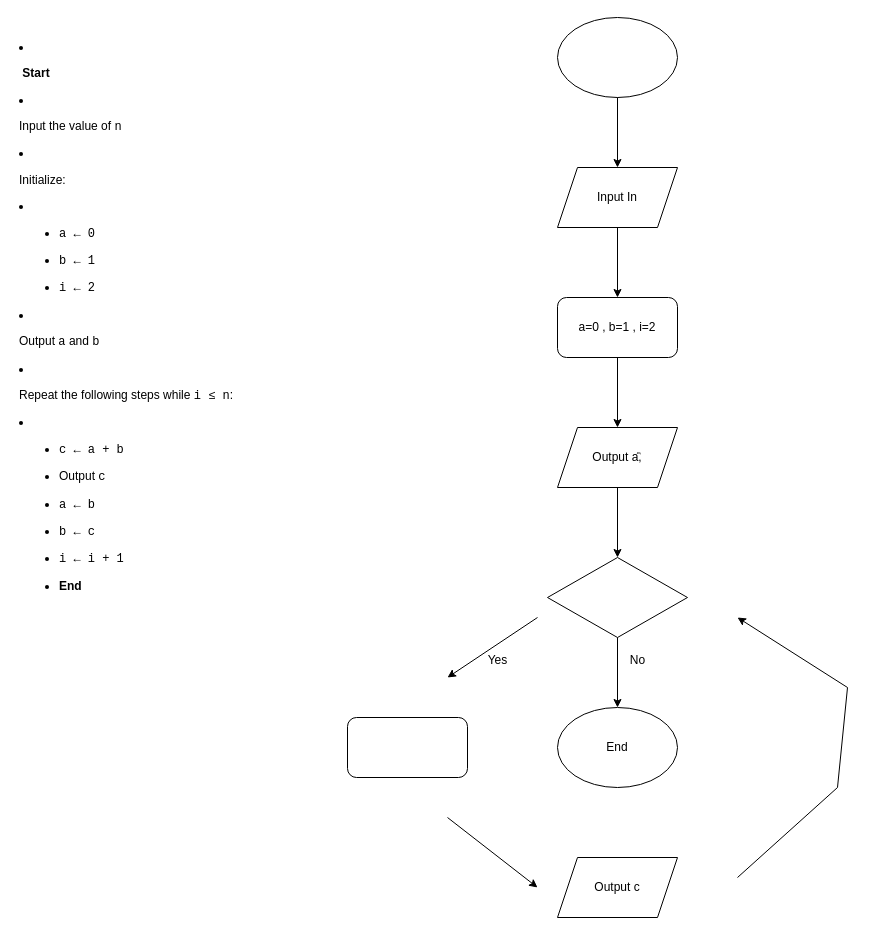
The diagram is 873 pixels wide and 935 high, and some of its shapes have lost their labels. The centre of each missing label's shape, as x and y in pixels:
c=a+b a=b , b=c i=i+1: the point at 407,747
i<=n: the point at 617,597
Start: the point at 617,57
